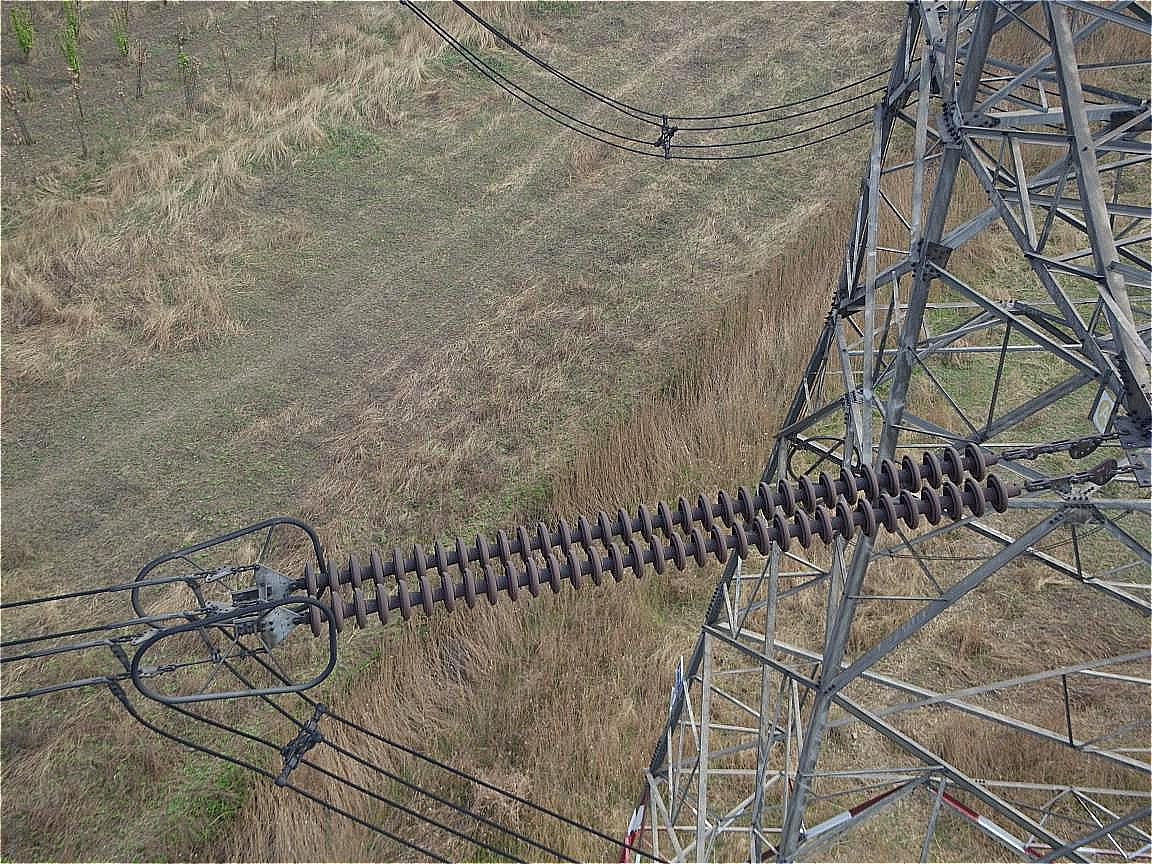insultor1: (302, 429, 1035, 642)
